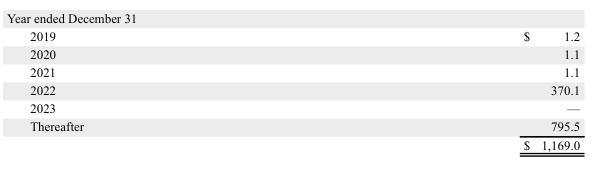table: (29, 28, 579, 151)
table column: (302, 28, 579, 151), (29, 28, 302, 151)
table row: (29, 98, 579, 117), (29, 44, 579, 62), (29, 62, 579, 80), (29, 80, 579, 98), (29, 117, 579, 135), (29, 28, 579, 44), (29, 135, 579, 151)
